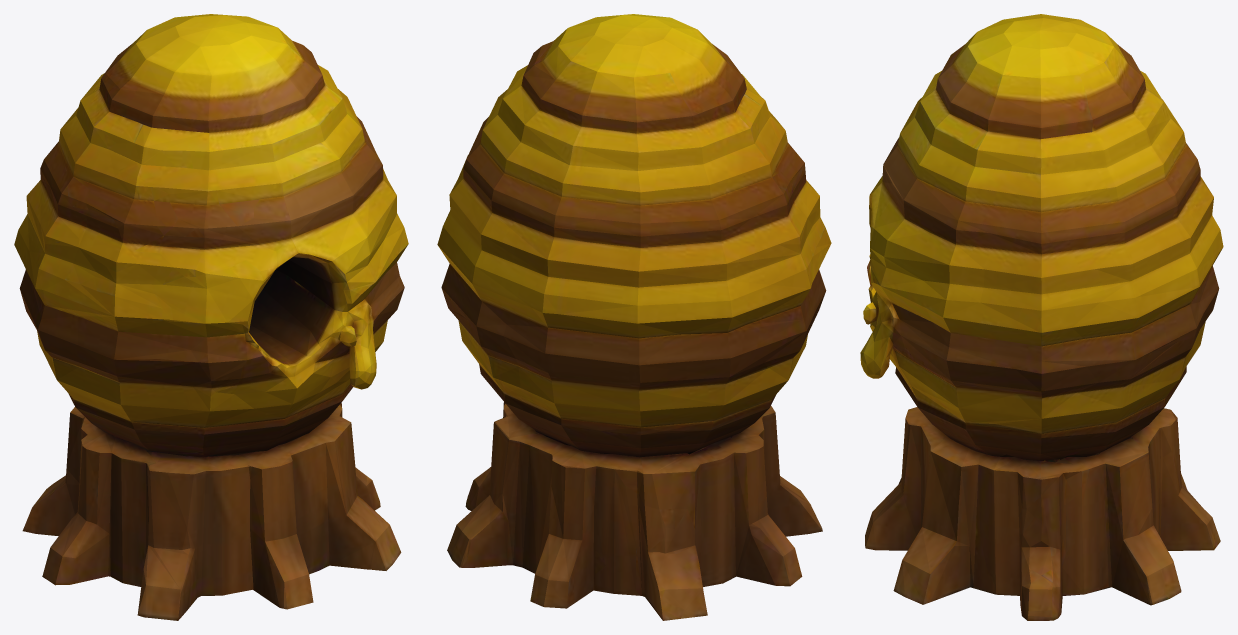
Rendered from d_ruche_essaim.glb.
3 views of the same model, side by side, from view 1: azimuth 30°, elevation 25°; view 2: azimuth 150°, elevation 25°; view 3: azimuth 270°, elevation 25° (orthographic).
Parts seen in each view (by area): view 1: geometry_0; view 2: geometry_0; view 3: geometry_0.
Boxes of the visible parts, box(x1,y1,x2,y2) form: geometry_0: box(14, 14, 408, 620); geometry_0: box(437, 14, 831, 620); geometry_0: box(860, 14, 1223, 620).
Bounding box in the file's own units: 0.7198 × 1 × 0.6429.
1 material, 1 textured.
